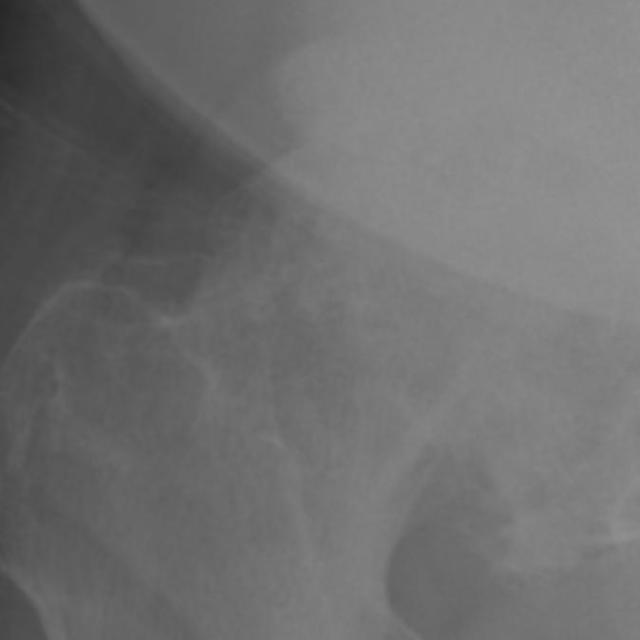Fitted_femural_head: (432, 111, 451, 451)
